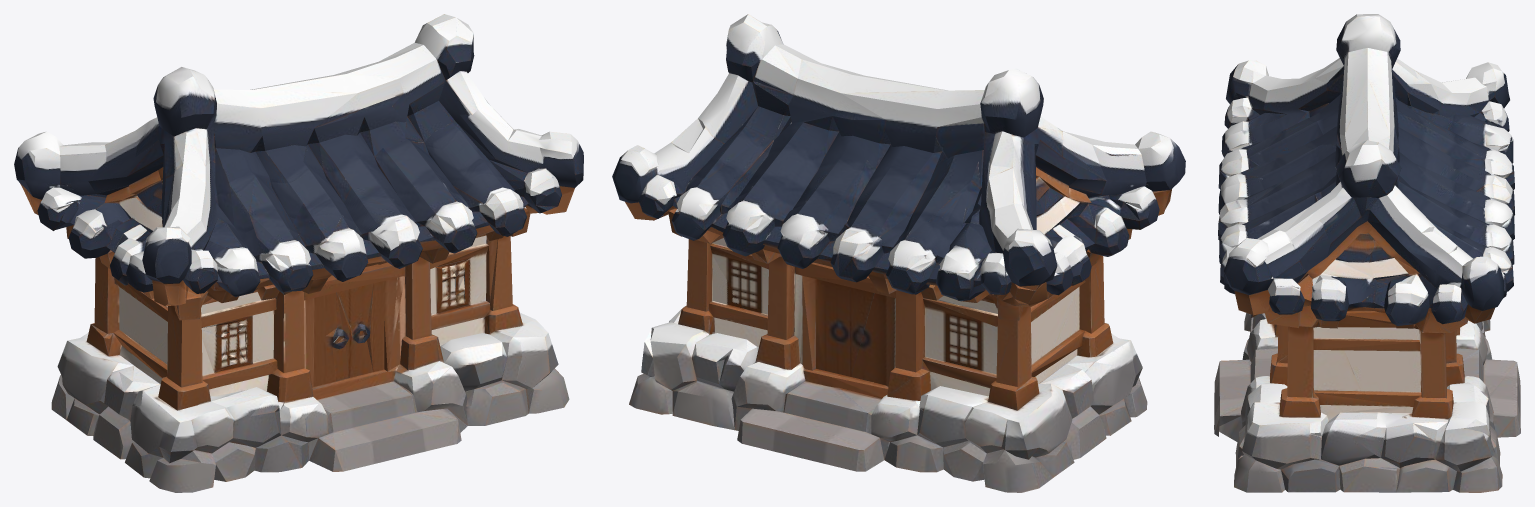
The model's file is hanokHall.glb.
3 renders of one model, left to right at view 1: azimuth 30°, elevation 25°; view 2: azimuth 150°, elevation 25°; view 3: azimuth 270°, elevation 25°, orthographic. The views are drawn at different scales.
Visible parts, largest first — view 1: Mesh_0; view 2: Mesh_0; view 3: Mesh_0.
Part boxes in pixels (x1,y1,x2,y2): Mesh_0: [14, 14, 583, 492]; Mesh_0: [612, 14, 1185, 492]; Mesh_0: [1214, 14, 1520, 492].
Bounding box in the file's own units: 2 × 1.57 × 1.31.
Materials: 1 (1 with a texture image).
